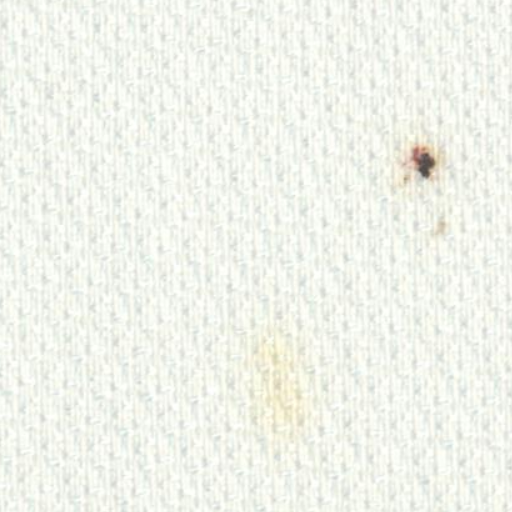WuZi: (200, 298, 340, 466), (381, 124, 480, 256)
